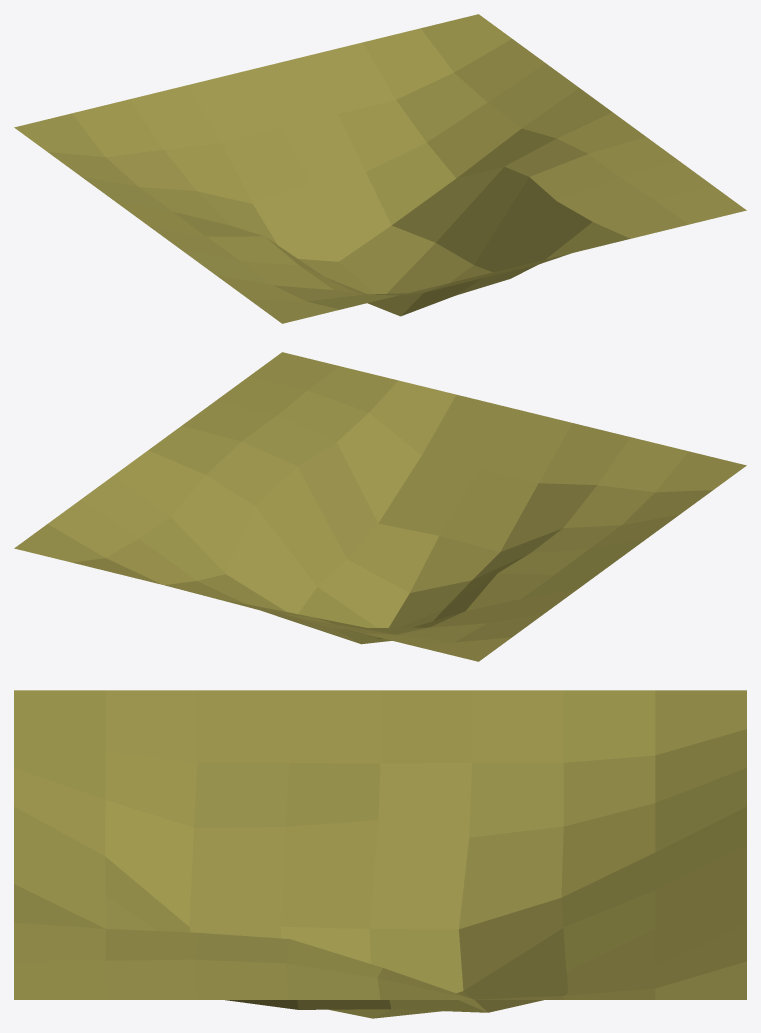
The model's file is Terrain_14_Yellow.fbx.
The picture shows the model from 3 angles, top to bottom: view 1: azimuth 30°, elevation 25°; view 2: azimuth 150°, elevation 25°; view 3: azimuth 270°, elevation 25°; orthographic projection. The views are drawn at different scales.
Parts seen in each view (by area): view 1: Terrain_14_Yellow; view 2: Terrain_14_Yellow; view 3: Terrain_14_Yellow.
Boxes of the visible parts, <box> form: Terrain_14_Yellow: <box>14,14,746,323</box>; Terrain_14_Yellow: <box>14,352,746,661</box>; Terrain_14_Yellow: <box>14,690,746,1018</box>.
Bounding box in the file's own units: 6000 × 1582 × 6000.
